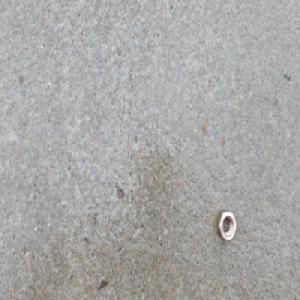Nut: (215, 208, 238, 243)
